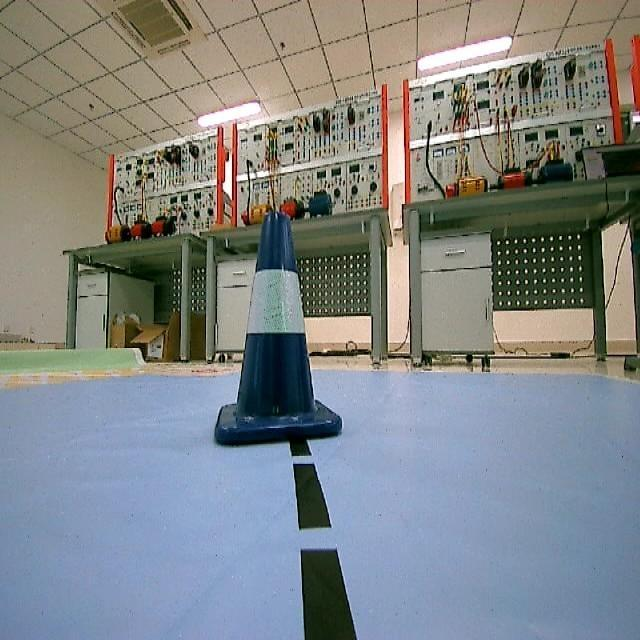obstacle: (201, 208, 348, 451)
